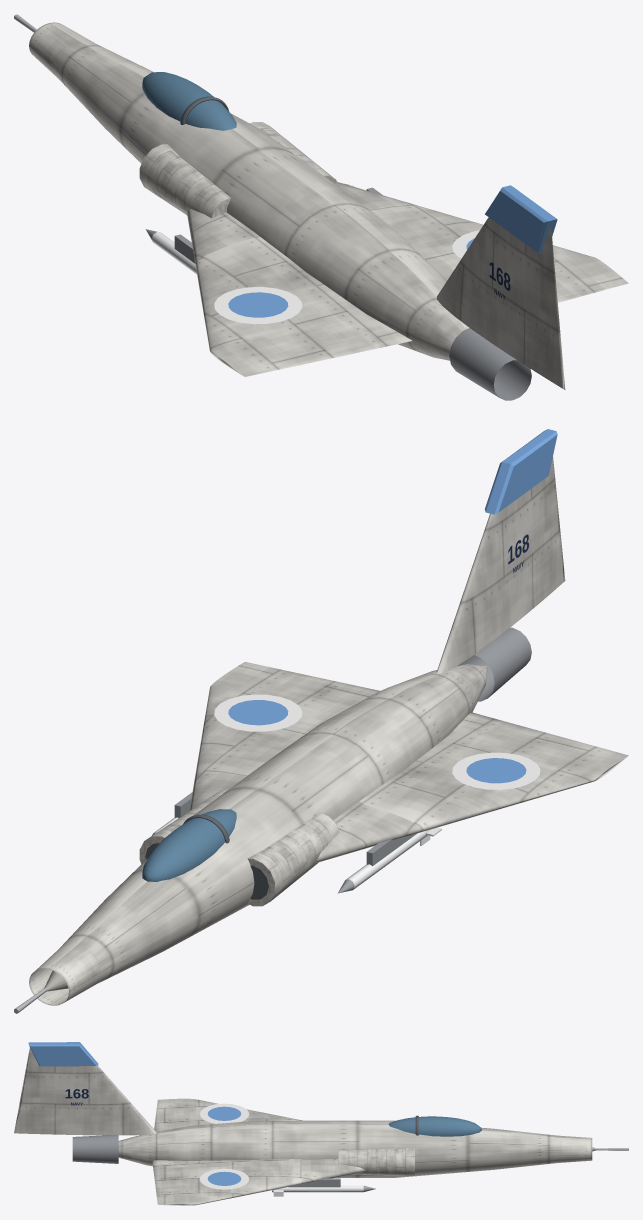
File: mir.glb
3 renders of one model, top to bottom at view 1: azimuth 30°, elevation 25°; view 2: azimuth 150°, elevation 25°; view 3: azimuth 270°, elevation 25°, orthographic. The views are drawn at different scales.
Visible parts, largest first — view 1: detail (×3), part (×6); view 2: detail (×3), part (×7); view 3: detail (×3), part (×7).
Boxes of the visible parts, left/top/right/bottom form: detail (×3): left=29, top=22, right=628, bottom=389; part (×6): left=142, top=72, right=557, bottom=400; detail (×3): left=29, top=457, right=628, bottom=1005; part (×7): left=142, top=429, right=557, bottom=889; detail (×3): left=14, top=1047, right=592, bottom=1205; part (×7): left=28, top=1042, right=481, bottom=1196.
Size of the model in its own units: 7.6 by 4.43 by 18.83.
14 materials, 3 textured.
